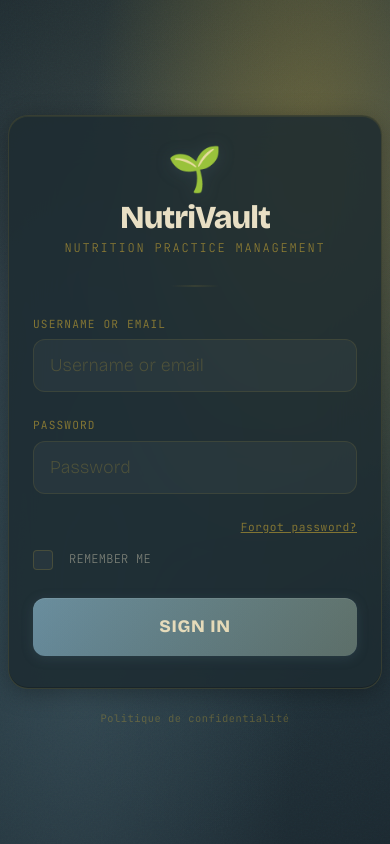
LoginPage › Error Handling › should dismiss error alert when closed
This screenshot has width=390, height=844.
# Trigger error
Type "testuser" into the field labelled "Username or email". click: (195, 366)
box: [33,339,357,392]
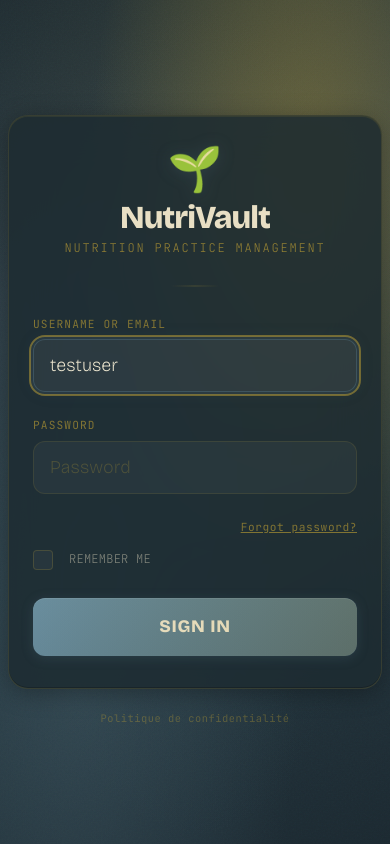
Type "password123" into the password field labelled "Password". click: (195, 467)
box: [33,441,357,494]
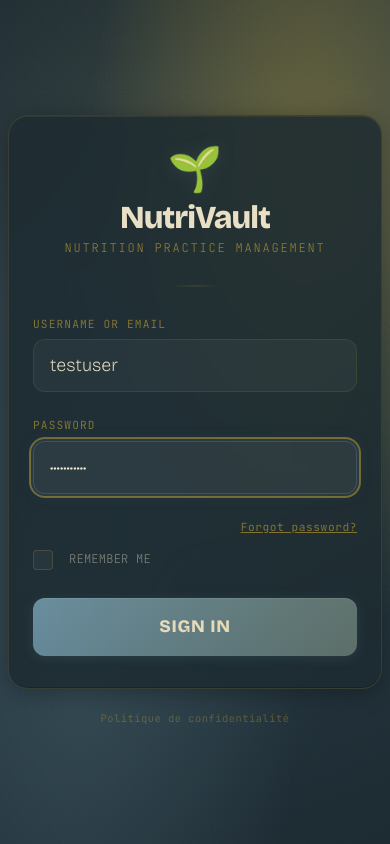
Click the button "Sign In". click: (195, 627)
box: [33,598,357,656]
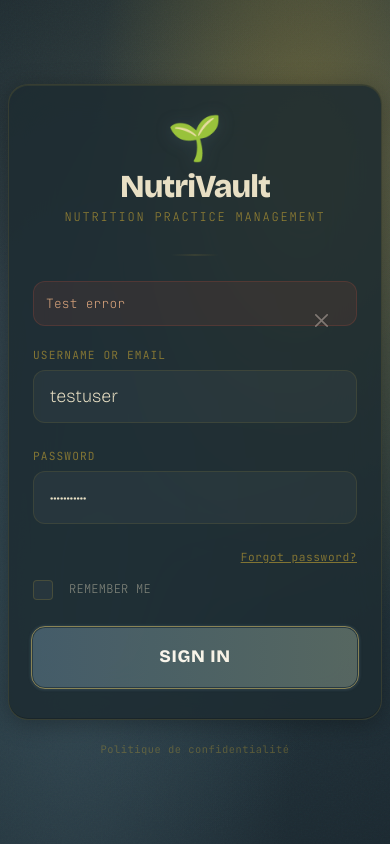
Result: the text "Test error" is shown at [33,281,357,326]
# Close alert
Click the button named "close". click: (321, 321)
box: [286,282,356,360]
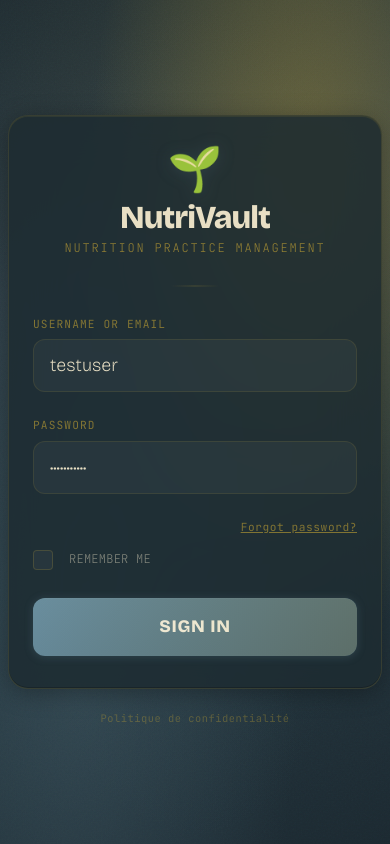
Result: the text "Test error" is gone
